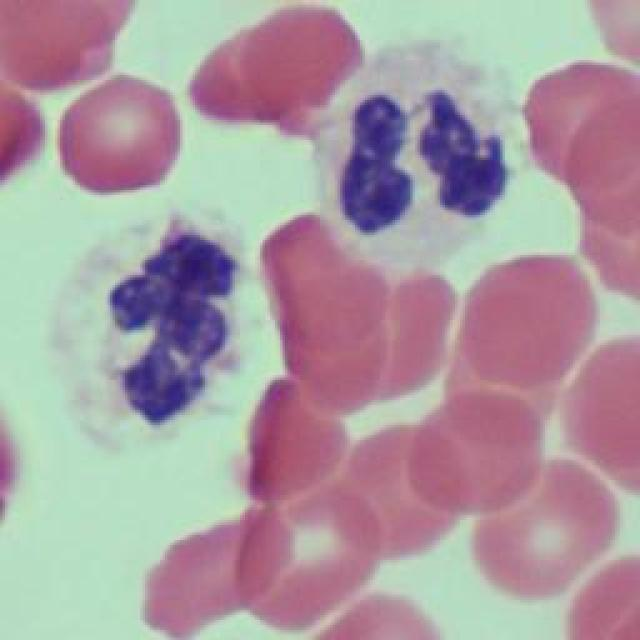RBC: (232, 482, 380, 630), (474, 458, 614, 600), (138, 505, 288, 637), (462, 256, 598, 394), (341, 425, 459, 563), (409, 394, 541, 514), (274, 207, 384, 345), (532, 61, 640, 191), (60, 81, 182, 194), (235, 381, 347, 499), (238, 10, 362, 108), (565, 338, 640, 494), (445, 340, 555, 442), (370, 286, 458, 402), (276, 323, 384, 415), (570, 94, 640, 228), (189, 35, 291, 125), (0, 3, 118, 75), (575, 190, 640, 300), (570, 555, 640, 640), (318, 595, 448, 640), (24, 0, 136, 50), (0, 98, 48, 184), (587, 0, 640, 57)
WBC: (52, 201, 266, 461), (314, 42, 528, 282)
